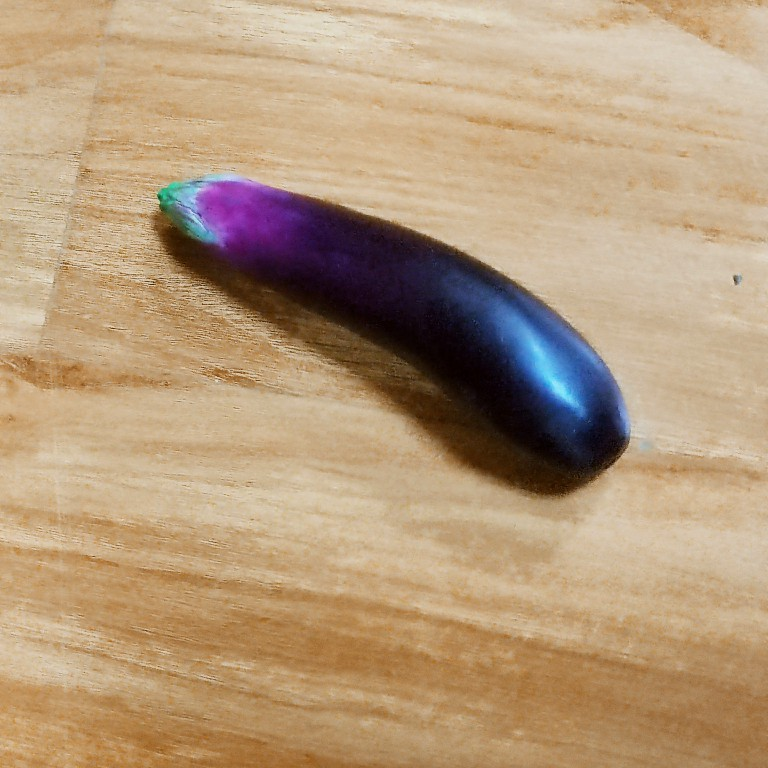fruit_eggplant: (154, 169, 636, 479)
